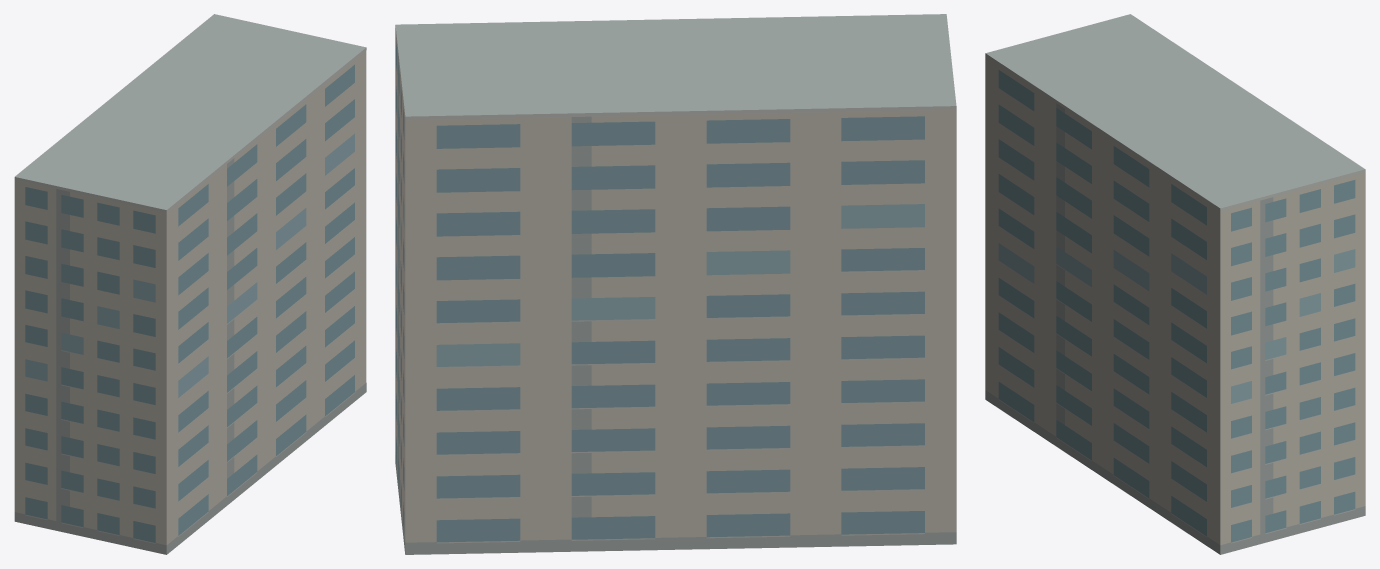
The model's file is residential-a7ca722d-138a-47df-8d16-6ac907d5bafa.glb.
3 views of the same model, side by side, from view 1: azimuth 30°, elevation 25°; view 2: azimuth 150°, elevation 25°; view 3: azimuth 270°, elevation 25° (orthographic). The views are drawn at different scales.
Visible parts, largest first — view 1: residential-a7ca722d-138a-47df-8d16-6ac907d5bafa.tmp; view 2: residential-a7ca722d-138a-47df-8d16-6ac907d5bafa.tmp; view 3: residential-a7ca722d-138a-47df-8d16-6ac907d5bafa.tmp.
Part boxes in pixels (x1,y1,x2,y2): residential-a7ca722d-138a-47df-8d16-6ac907d5bafa.tmp: [14, 14, 366, 554]; residential-a7ca722d-138a-47df-8d16-6ac907d5bafa.tmp: [395, 14, 956, 554]; residential-a7ca722d-138a-47df-8d16-6ac907d5bafa.tmp: [985, 14, 1365, 554].
Bounding box in the file's own units: 34.92 × 29 × 28.84.
